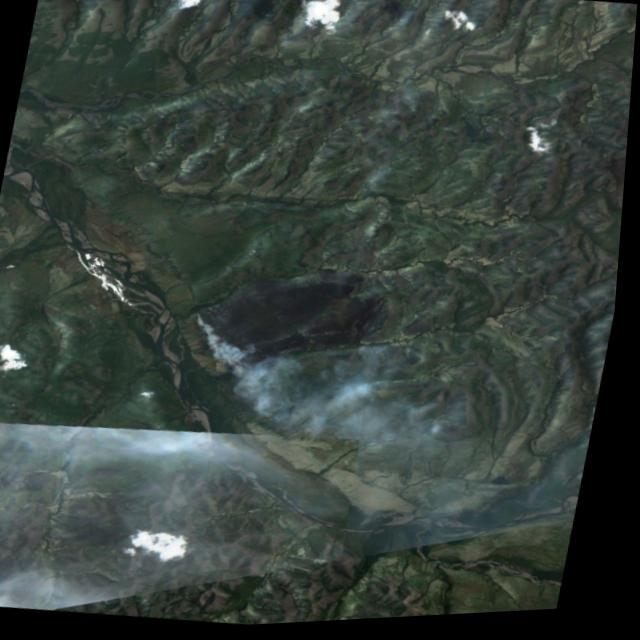fire: (171, 253, 421, 408)
